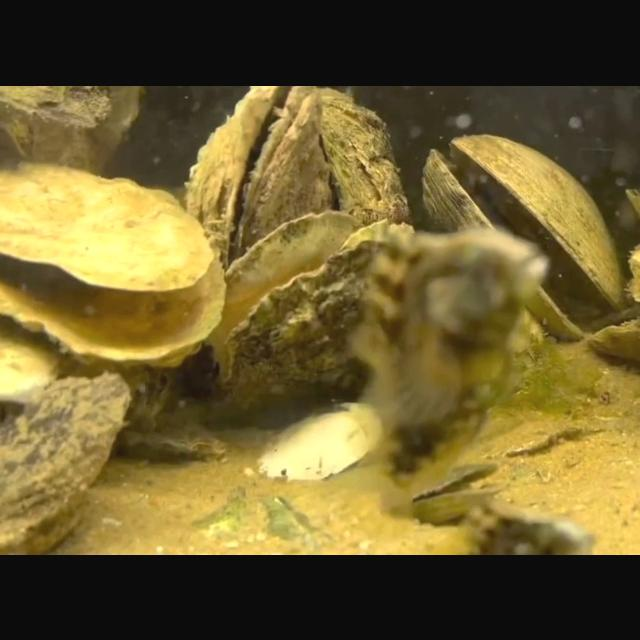Oyster-Closed: (0, 370, 128, 554), (314, 84, 408, 226), (256, 399, 386, 481)
Oyster-Open: (0, 161, 228, 363), (422, 128, 624, 336), (206, 207, 418, 386), (183, 85, 321, 271), (378, 452, 510, 520), (115, 407, 229, 468)
